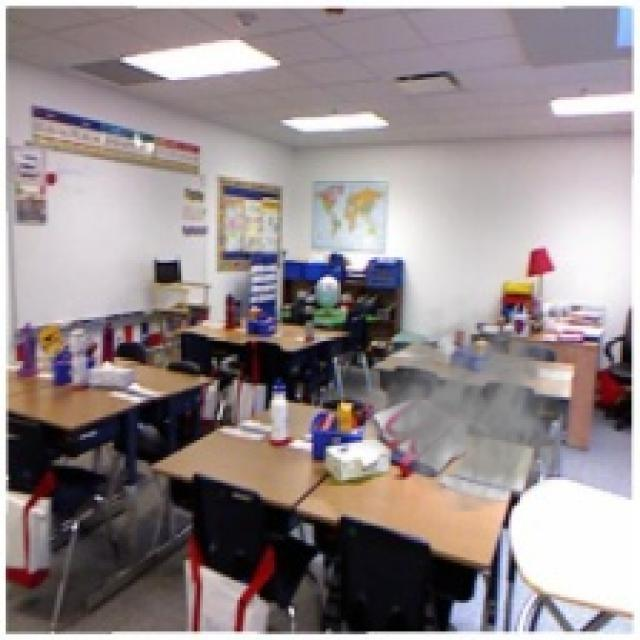Smoke: (354, 294, 580, 514)
